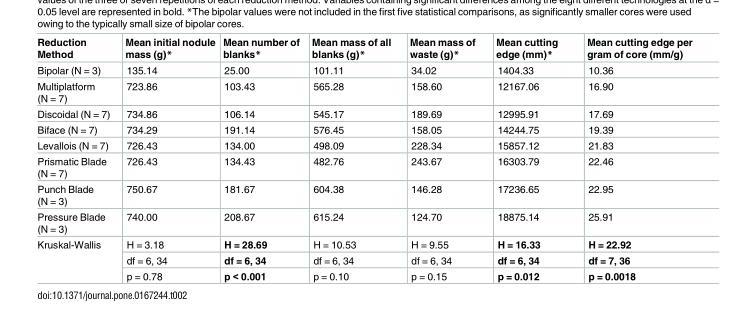table: (36, 37, 691, 281)
table column: (571, 37, 691, 281), (116, 37, 218, 281), (305, 37, 399, 281), (218, 37, 305, 281), (484, 37, 571, 281), (399, 37, 484, 281), (36, 37, 116, 281)
table column header: (36, 37, 691, 62)
table row: (36, 78, 691, 106), (36, 153, 691, 181), (36, 181, 691, 209), (36, 209, 691, 236), (36, 37, 691, 62), (36, 62, 691, 78), (36, 106, 691, 122), (36, 137, 691, 153), (36, 236, 691, 252), (36, 122, 691, 137), (36, 252, 691, 267), (36, 267, 691, 281)
table spanning cell: (36, 236, 116, 281)
